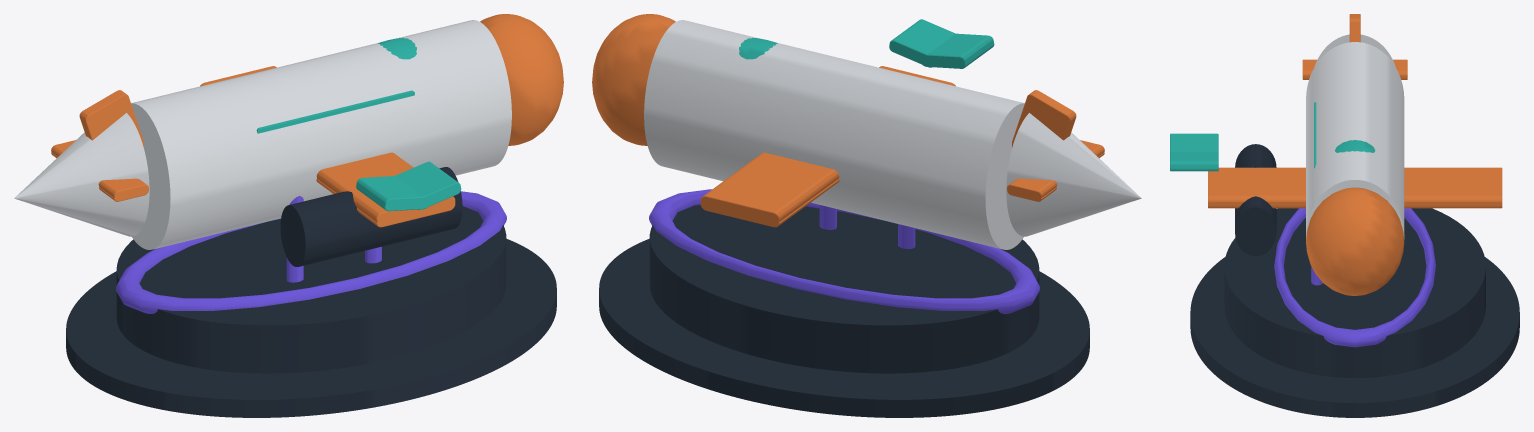
The model's file is 0352_航空航天图鉴_歼-20战斗机.glb.
3 renders of one model, left to right at view 1: azimuth 30°, elevation 25°; view 2: azimuth 150°, elevation 25°; view 3: azimuth 270°, elevation 25°, orthographic. The views are drawn at different scales.
Visible parts, largest first — view 1: card_0352; view 2: card_0352; view 3: card_0352.
Boxes of the visible parts, x1,y1,x2,y2 form: card_0352: (14, 14, 563, 417); card_0352: (592, 14, 1141, 417); card_0352: (1170, 14, 1519, 417).
Size of the model in its own units: 2.02 by 1 by 1.36.
